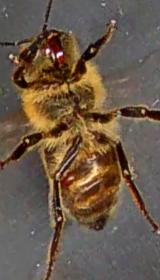varroa_mite: (54, 168, 81, 192)
